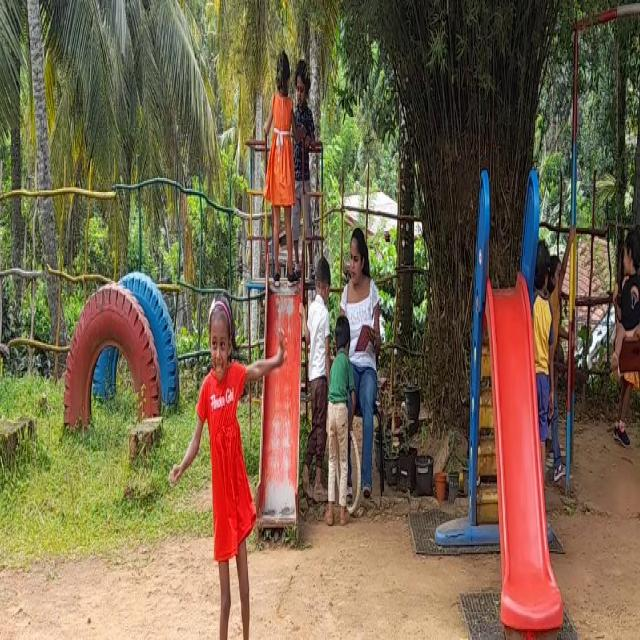adult: (351, 219, 386, 524)
child: (190, 281, 263, 640), (267, 41, 296, 280), (305, 257, 329, 488), (608, 216, 640, 386), (330, 315, 350, 526), (294, 64, 313, 259)
